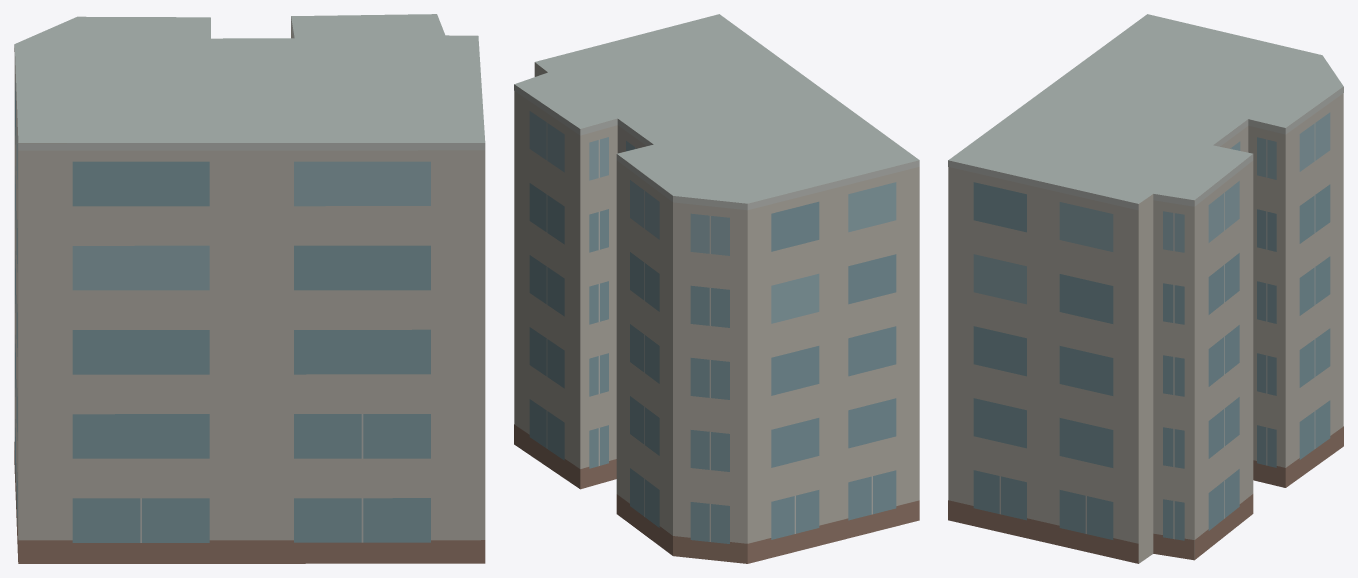
The model's file is survey-upis-32871449.glb.
The picture shows the model from 3 angles, left to right: view 1: azimuth 30°, elevation 25°; view 2: azimuth 150°, elevation 25°; view 3: azimuth 270°, elevation 25°; orthographic projection. The views are drawn at different scales.
Parts seen in each view (by area): view 1: survey-upis-32871449.tmp; view 2: survey-upis-32871449.tmp; view 3: survey-upis-32871449.tmp.
Part boxes in pixels (x1,y1,x2,y2): survey-upis-32871449.tmp: [14, 14, 485, 563]; survey-upis-32871449.tmp: [514, 14, 919, 563]; survey-upis-32871449.tmp: [948, 14, 1343, 563].
Bounding box in the file's own units: 15.17 × 13.4 × 13.36.
